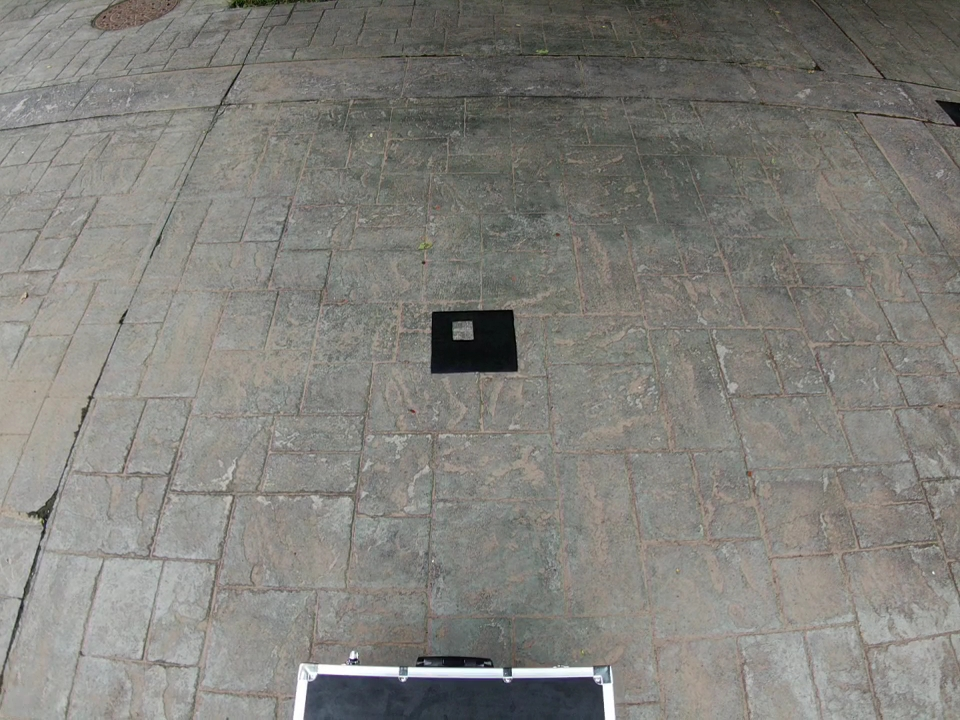qrcode: (431, 310, 519, 373)
